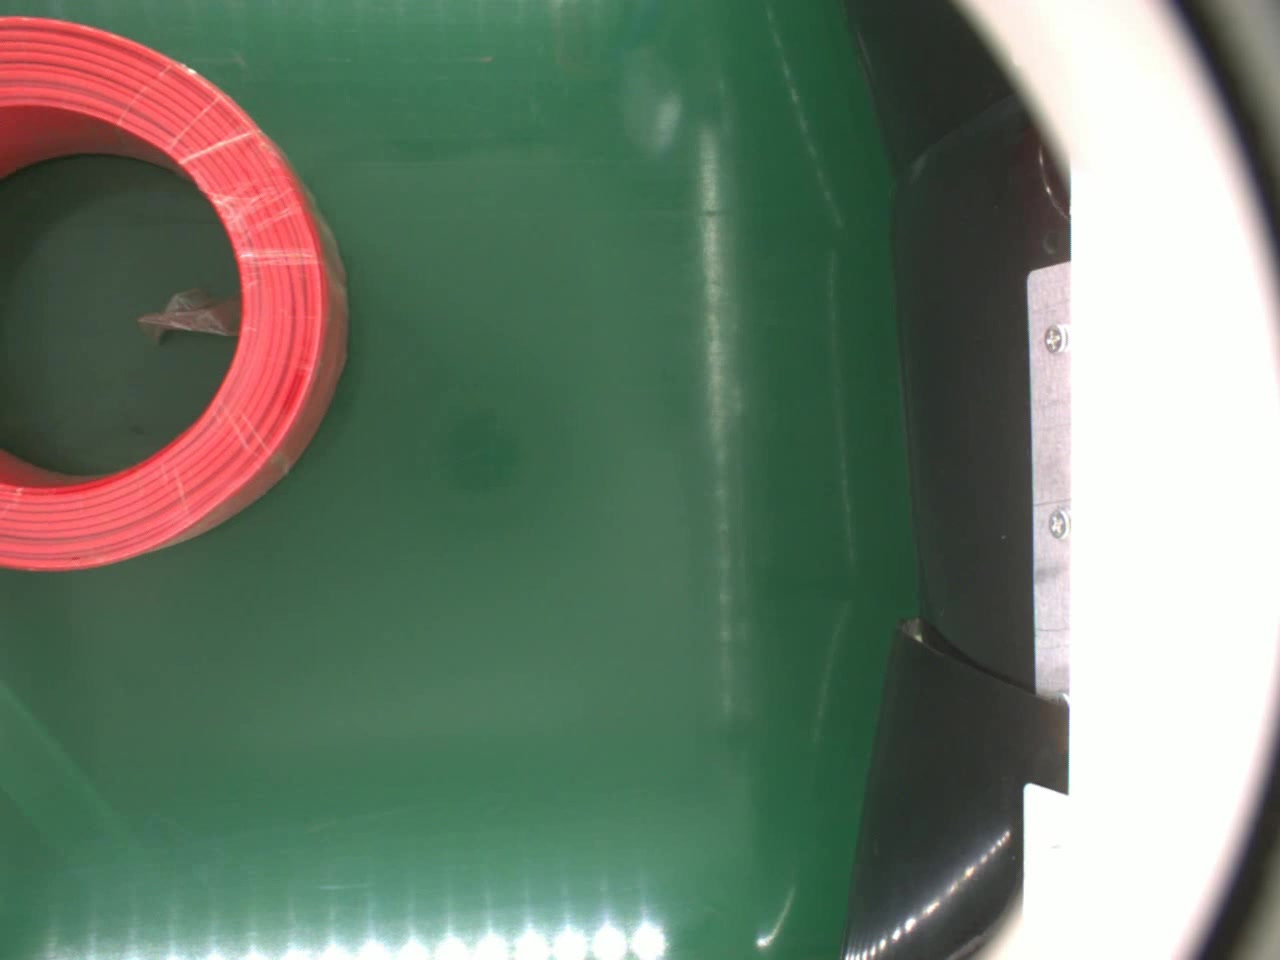red: (0, 15, 353, 579)
